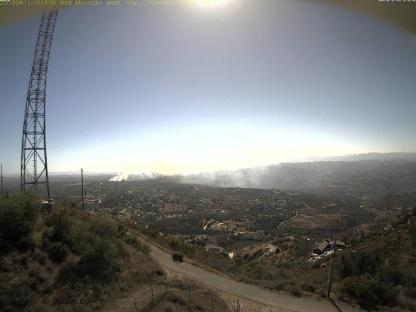smoke: (108, 156, 276, 192)
